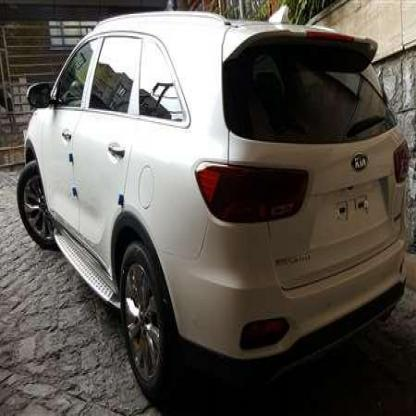Car: (15, 0, 409, 391)
